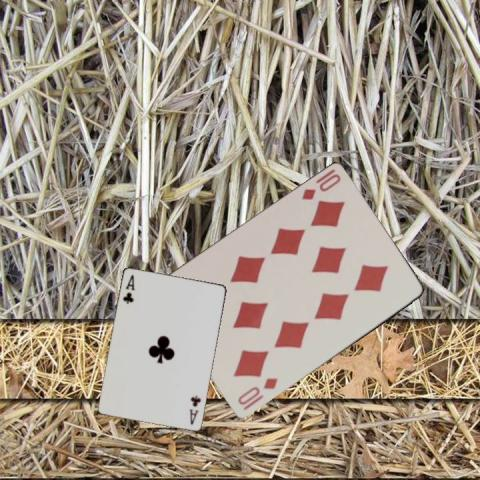10d: (298, 166, 342, 202), (235, 376, 279, 408)
Ac: (186, 393, 202, 426), (120, 272, 136, 305)
